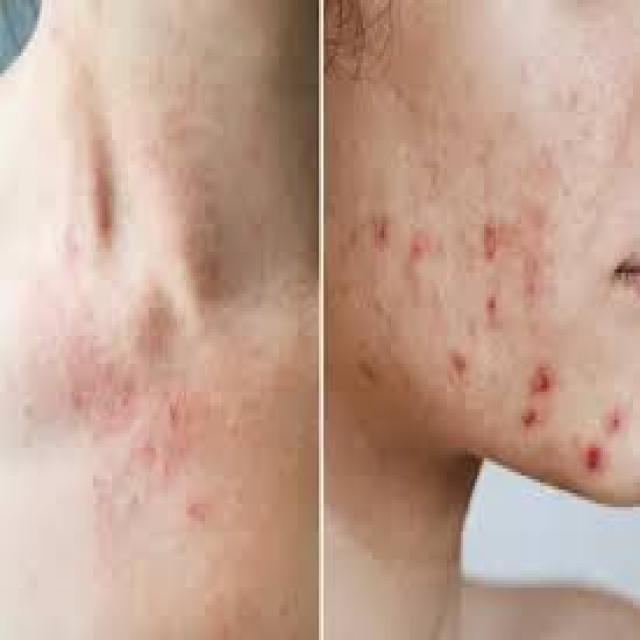Eczema: (355, 194, 623, 497), (51, 306, 223, 536)
